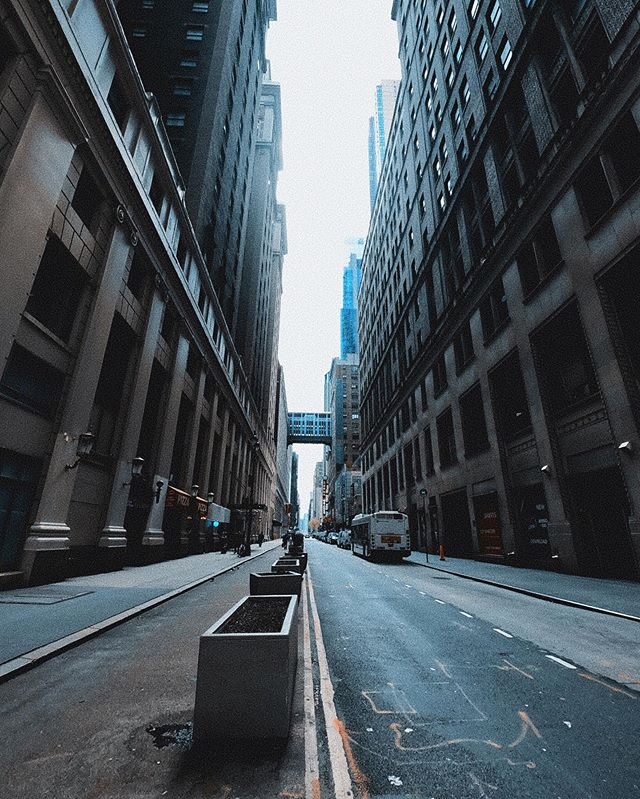building: (345, 1, 640, 553), (1, 1, 272, 539)
street: (285, 525, 640, 799)
